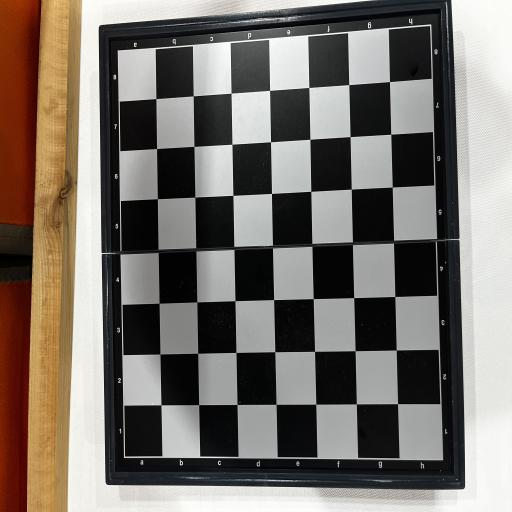Board: (99, 0, 465, 489)
